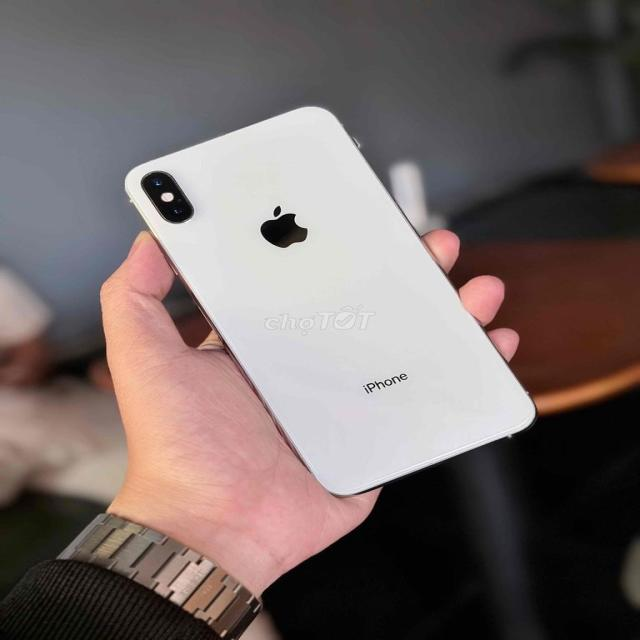gen_x_xs: (128, 107, 535, 494)
